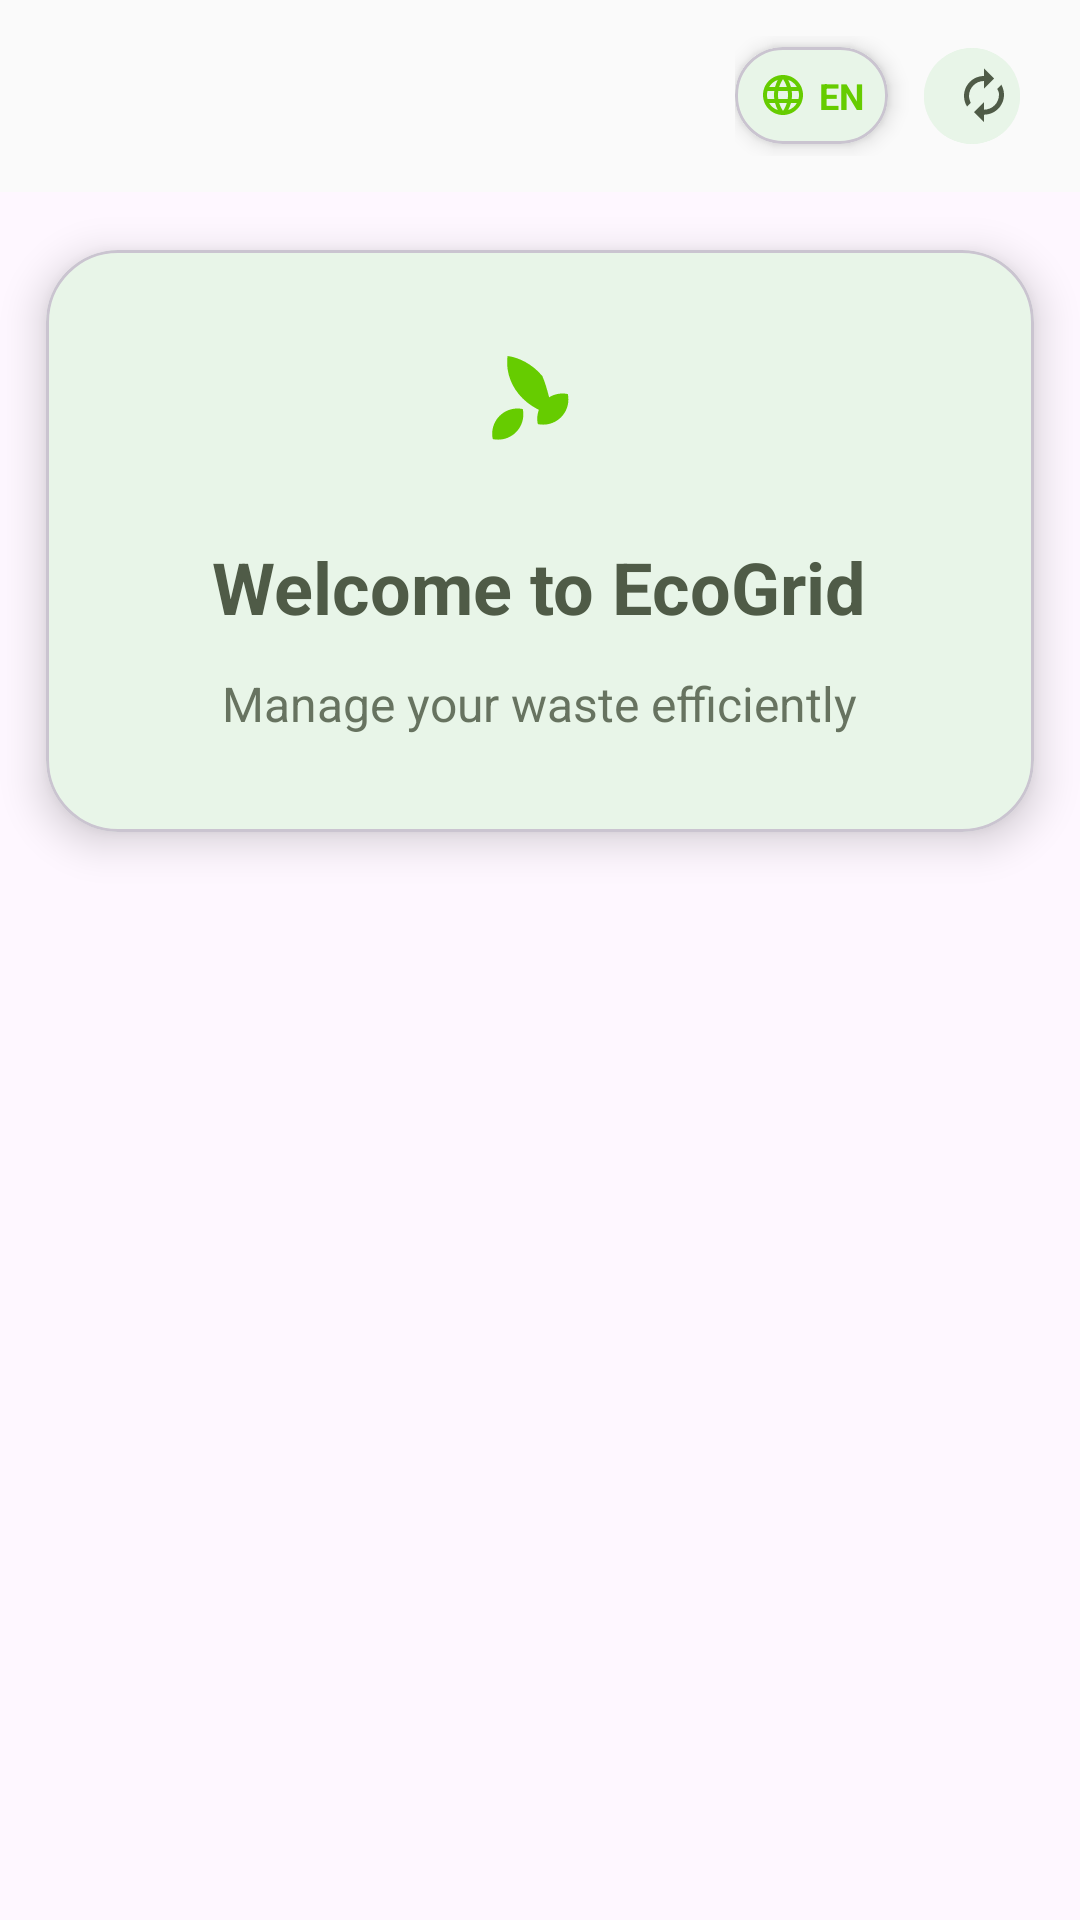

Icons on this 1080px×1920px Android screen, each with its box as {"left": x1, "top": y1, "right": x2, "bottom": y2}:
autorenew: {"left": 924, "top": 48, "right": 1020, "bottom": 144}
eco: {"left": 492, "top": 356, "right": 569, "bottom": 440}
language: {"left": 763, "top": 75, "right": 803, "bottom": 115}
